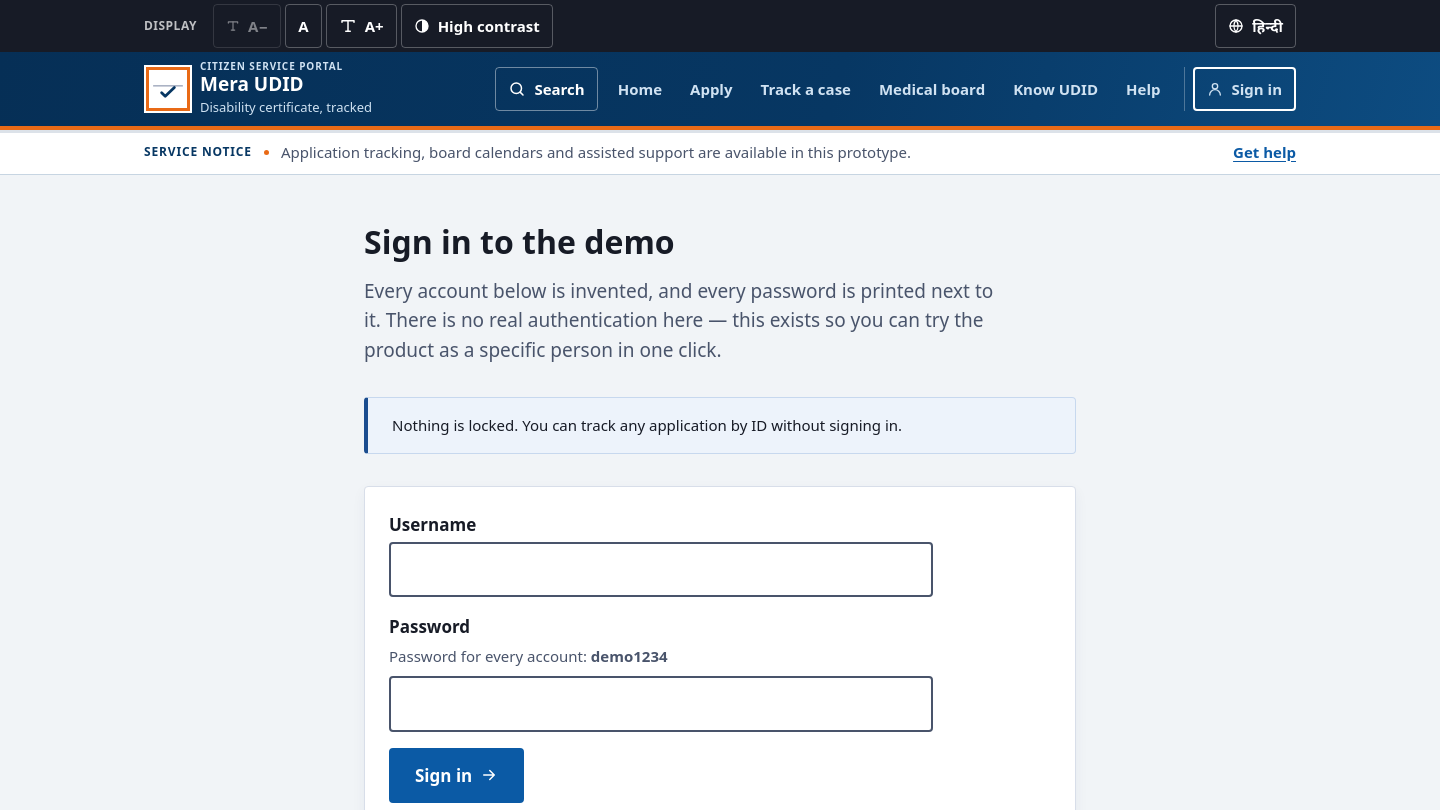
Test case: demo sign-in › lets you sign out again
In the field labelled "Username": (661, 570) [389,542,933,597], type "asha"
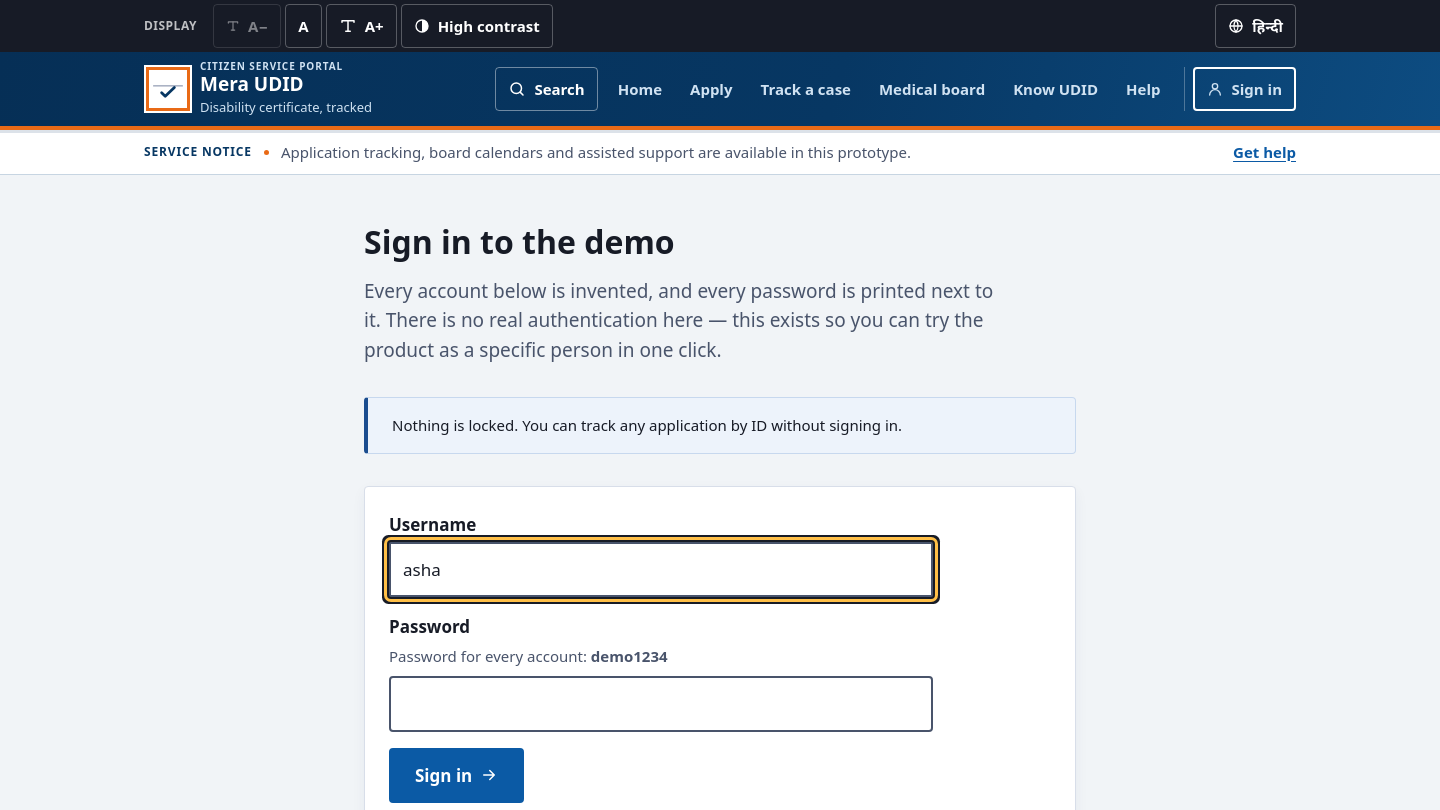
In the field labelled "Password": (661, 704) [389,676,933,732], type "demo1234"
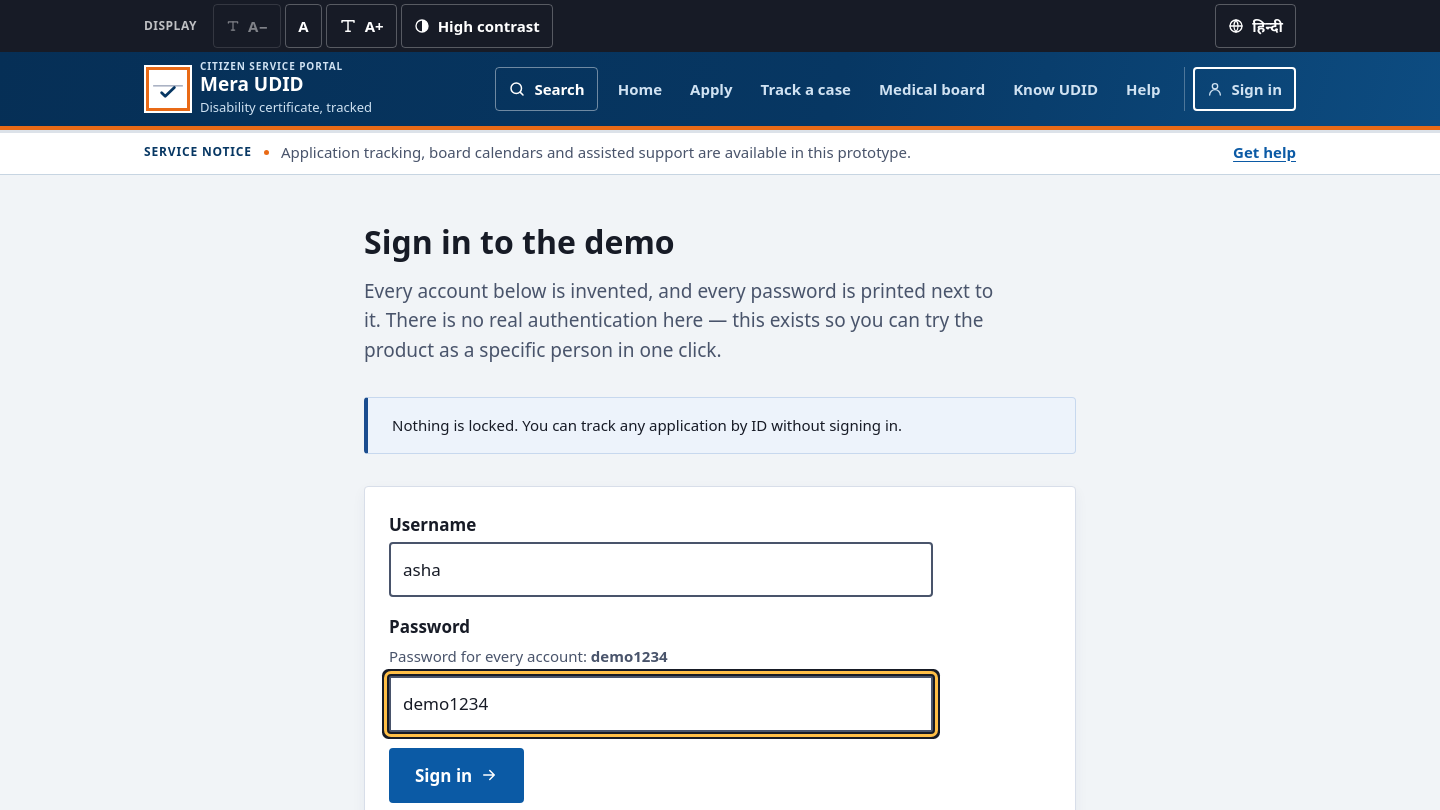
Click the button "Sign in": (457, 775) [389,748,524,803]
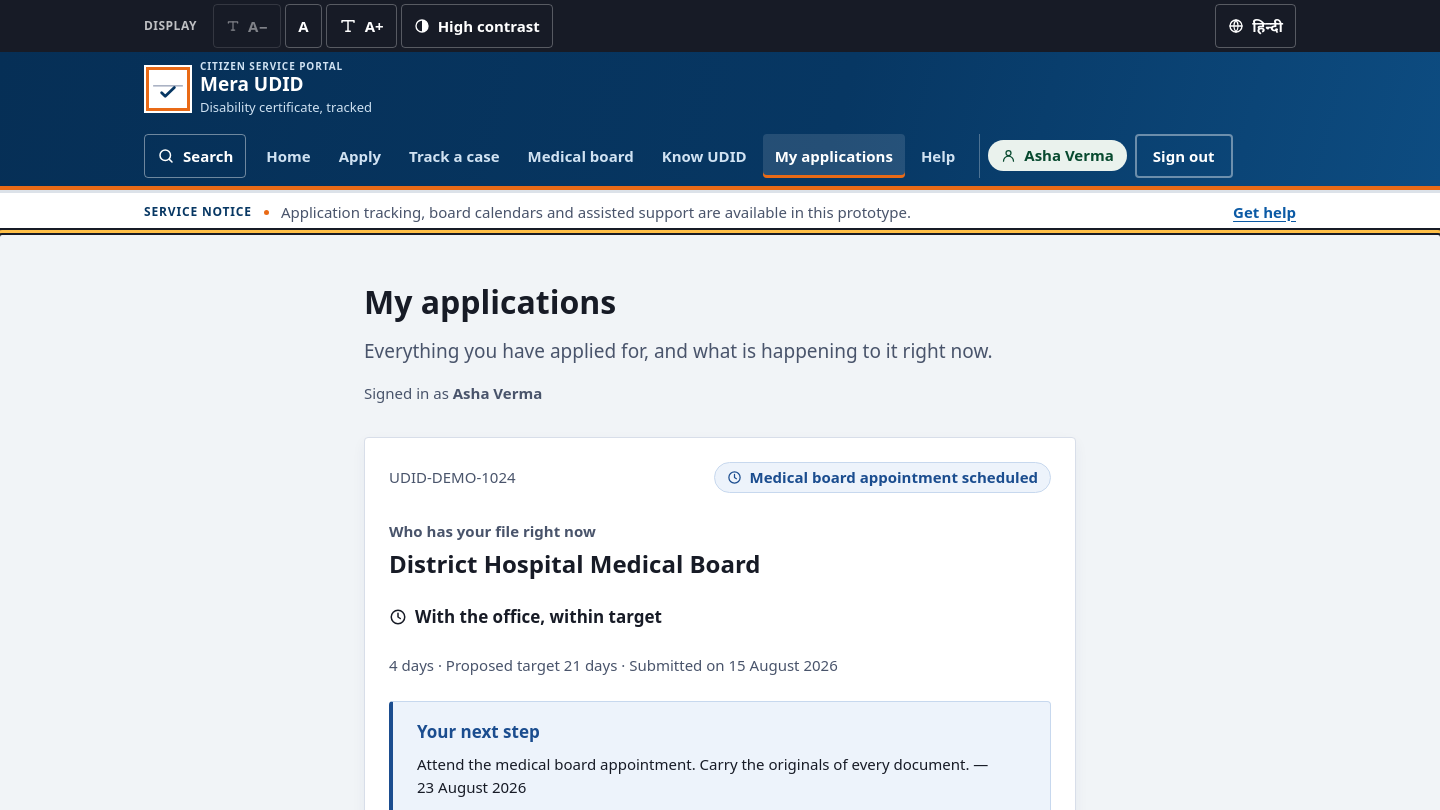
Result: the heading "My applications" is shown at [364,280,616,323]
Click the button "Sign out": (1184, 156) [1135,134,1233,178]
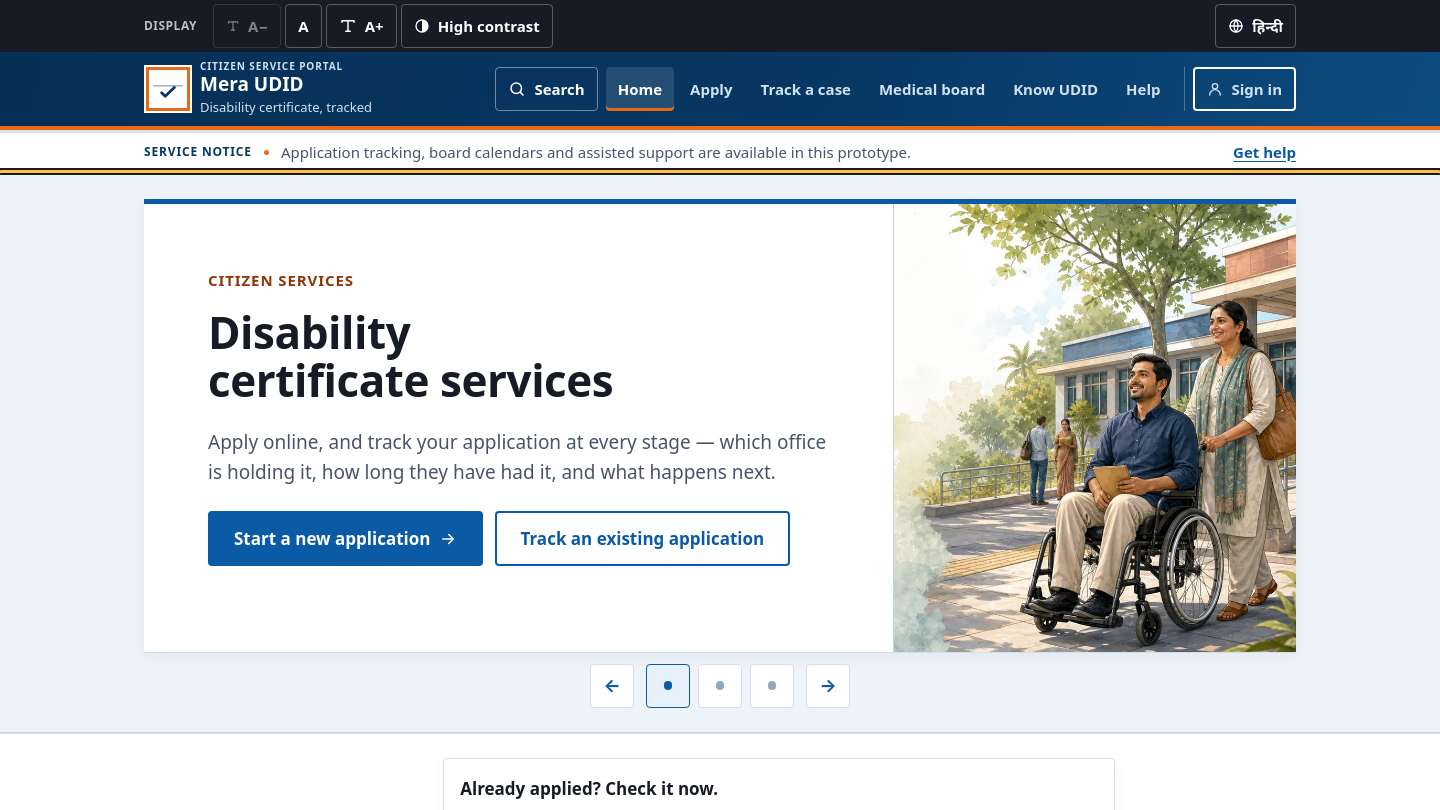
Result: the heading "Disability certificate services" is shown at [208,302,613,410]
